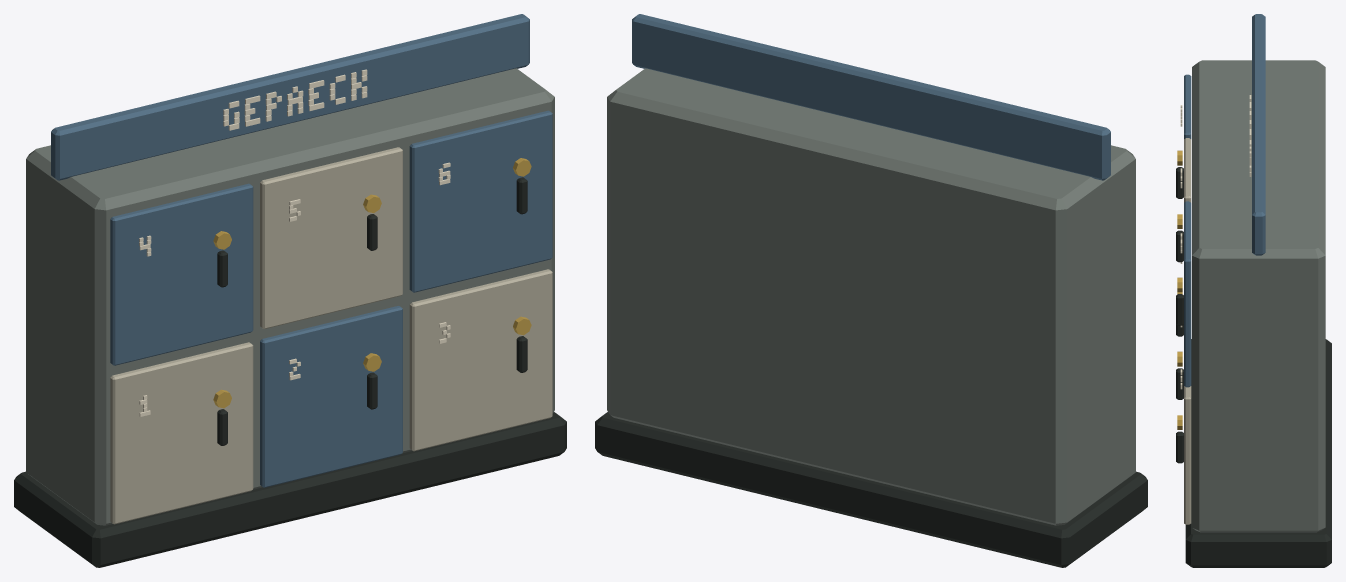
File: luggage-lockers.glb
The picture shows the model from 3 angles, left to right: view 1: azimuth 30°, elevation 25°; view 2: azimuth 150°, elevation 25°; view 3: azimuth 270°, elevation 25°; orthographic projection. The views are drawn at different scales.
Parts seen in each view (by area): view 1: luggage-lockers; view 2: luggage-lockers; view 3: luggage-lockers.
Boxes of the visible parts, x1,y1,x2,y2 form: luggage-lockers: [14, 14, 566, 567]; luggage-lockers: [595, 14, 1147, 567]; luggage-lockers: [1176, 14, 1331, 567].
Bounding box in the file's own units: 2.6 × 2.15 × 0.8525.
